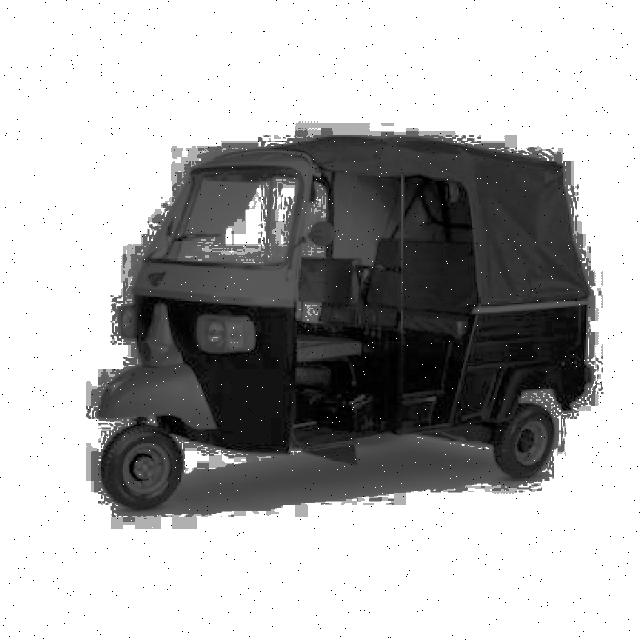Auto-Rickshaw: (92, 142, 590, 498)
